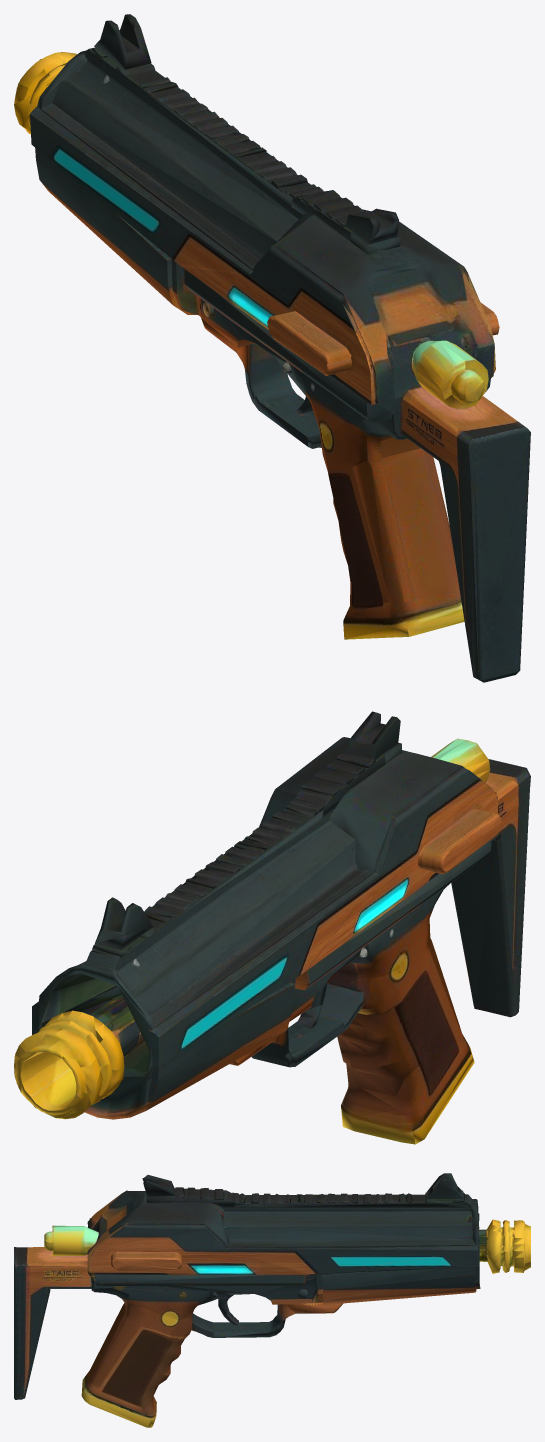
File: gun-blaster.glb
3 renders of one model, top to bottom at view 1: azimuth 30°, elevation 25°; view 2: azimuth 150°, elevation 25°; view 3: azimuth 270°, elevation 25°, orthographic. The views are drawn at different scales.
Size of the model in its own units: 0.0665 by 0.1547 by 0.3.
1 material, 1 textured.
